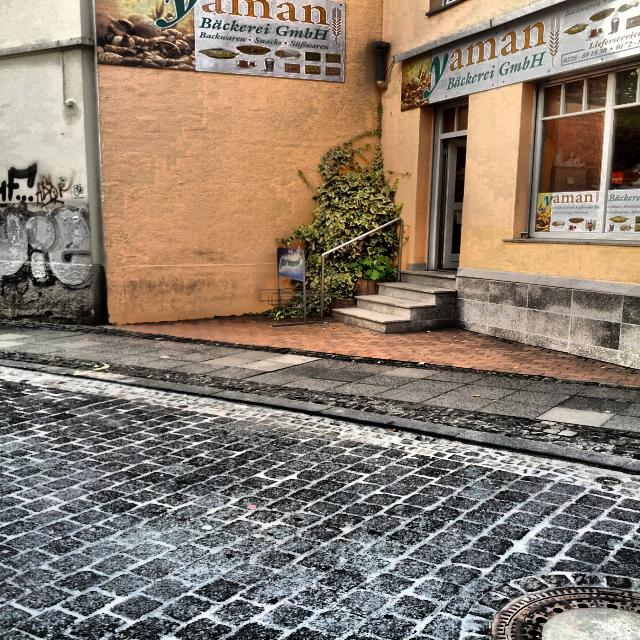escada: (330, 267, 465, 335)
